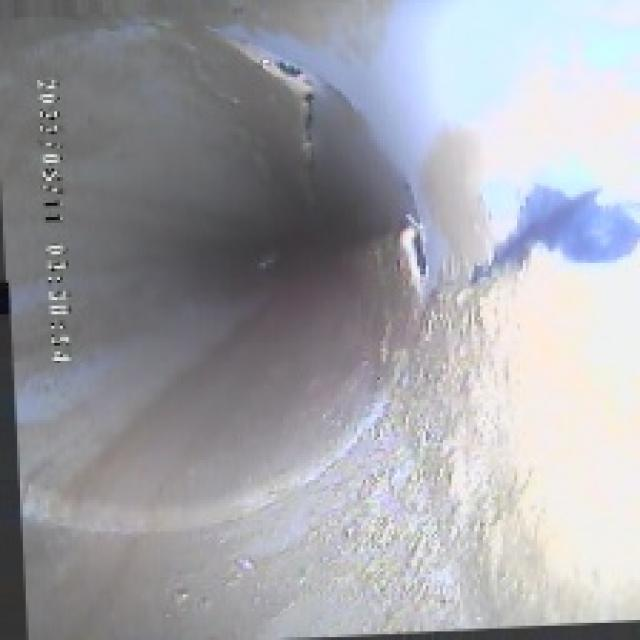pipe_surface_damage: (203, 31, 463, 312)
